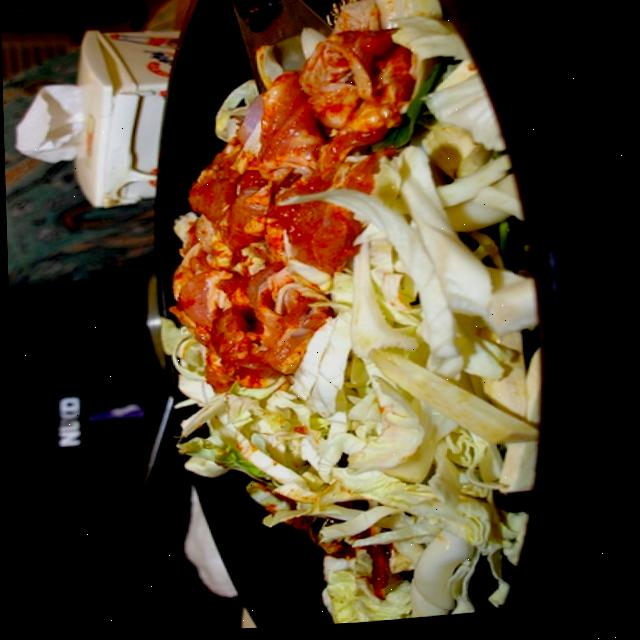鸡肉料理 含炸鸡: (4, 0, 611, 640)
